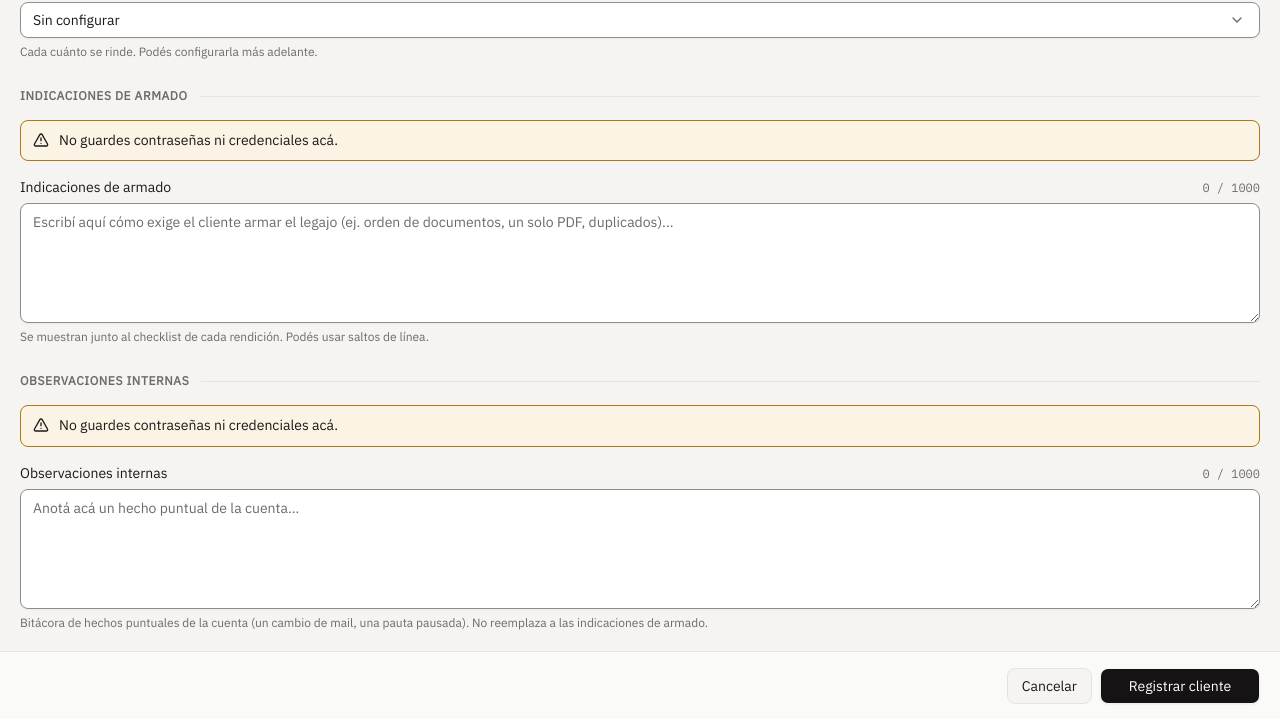
Test case: ClienteForm: después de un primer envío fallido › un valor que sigue siendo inválido sigue marcado mientras se escribe
(page scrolled)
Click the button "Registrar cliente" at (1180, 686), box top-left (1100, 668), bottom-right (1260, 704)
(page scrolled)
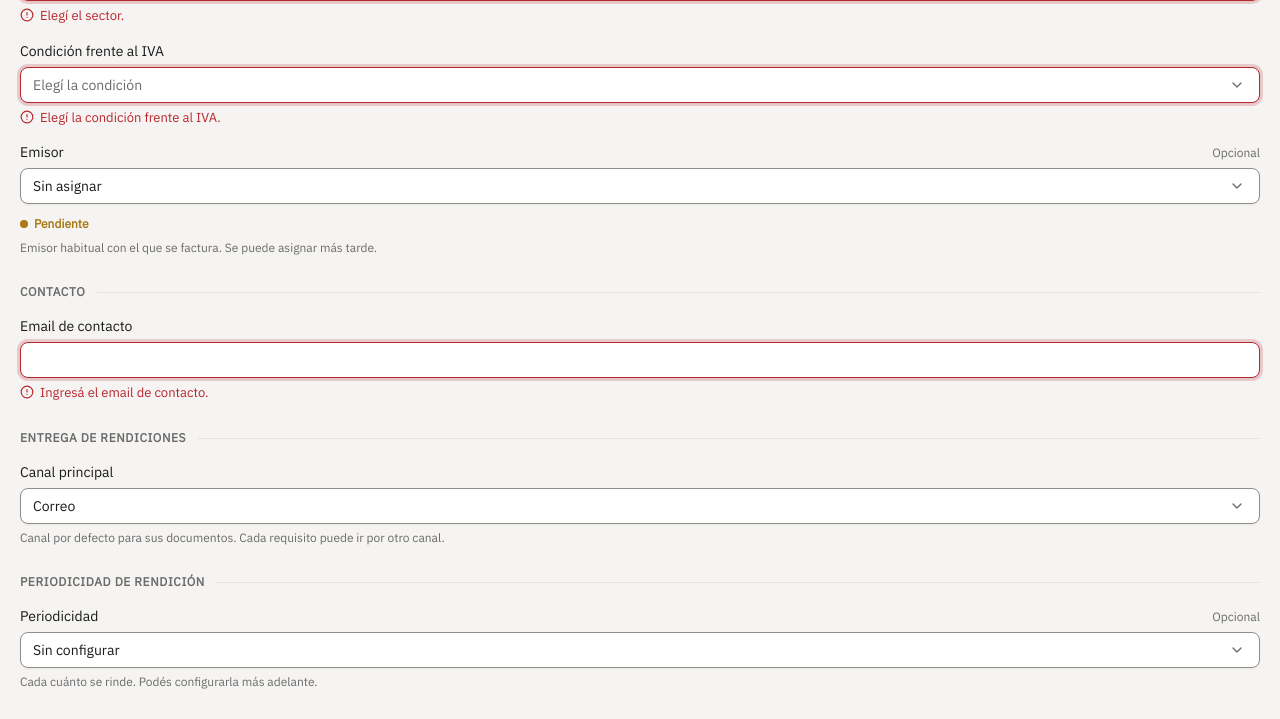
Type "sin-arroba" into the field labelled "Email de contacto" at (640, 360), box top-left (20, 342), bottom-right (1260, 378)
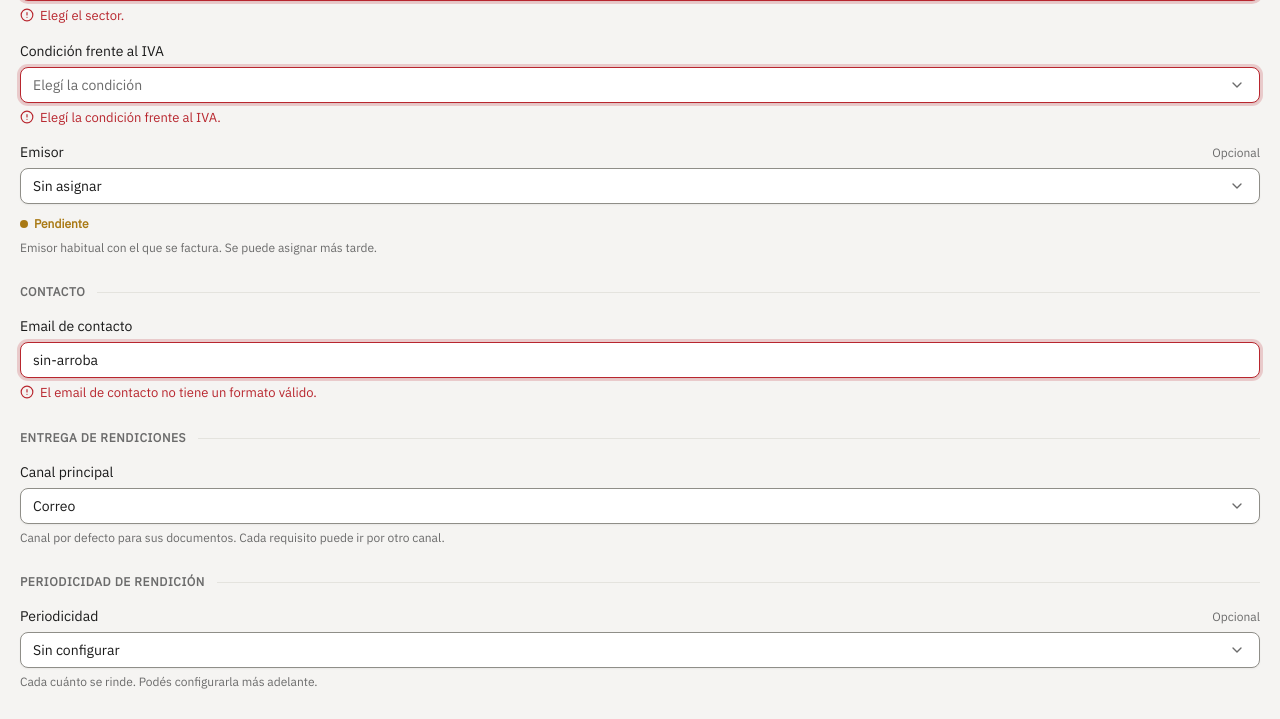
Expected: the text "El email de contacto no tiene un formato válido." is shown, top-left (20, 384), bottom-right (317, 401)
Type "@ejemplo.example" into the field labelled "Email de contacto" at (640, 360), box top-left (20, 342), bottom-right (1260, 378)
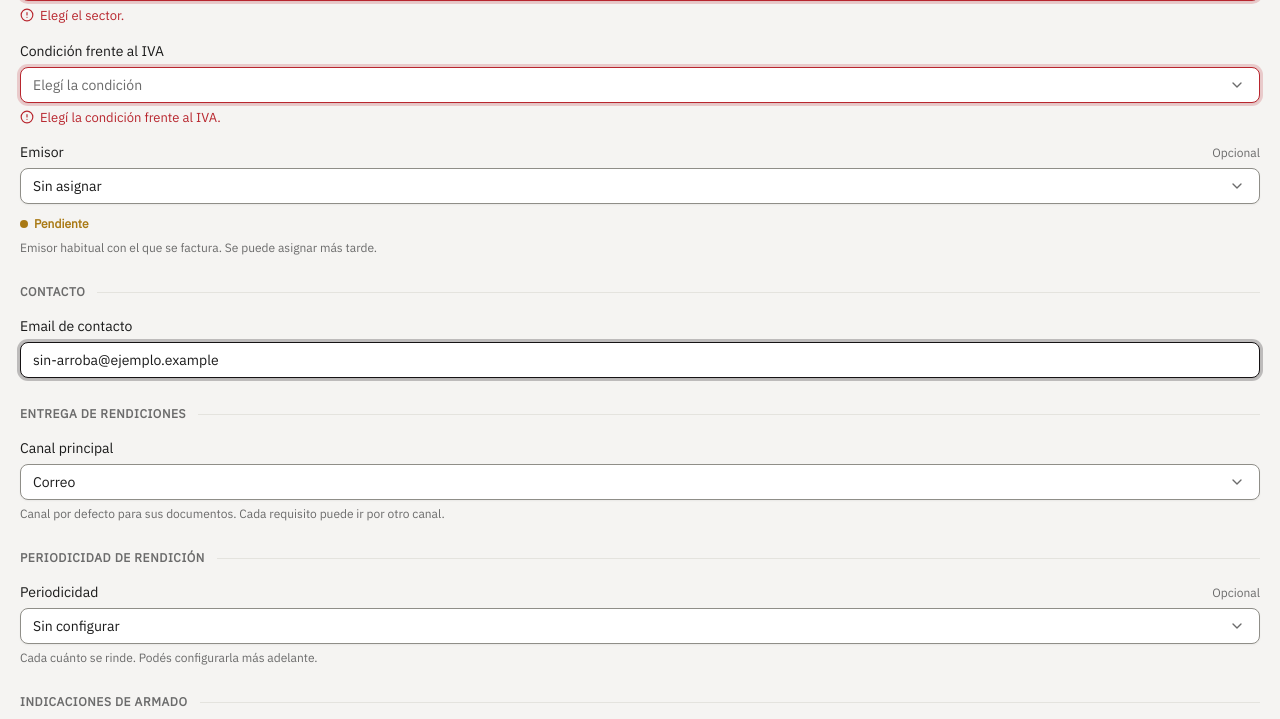
Expected: the text "El email de contacto no tiene un formato válido." is gone
